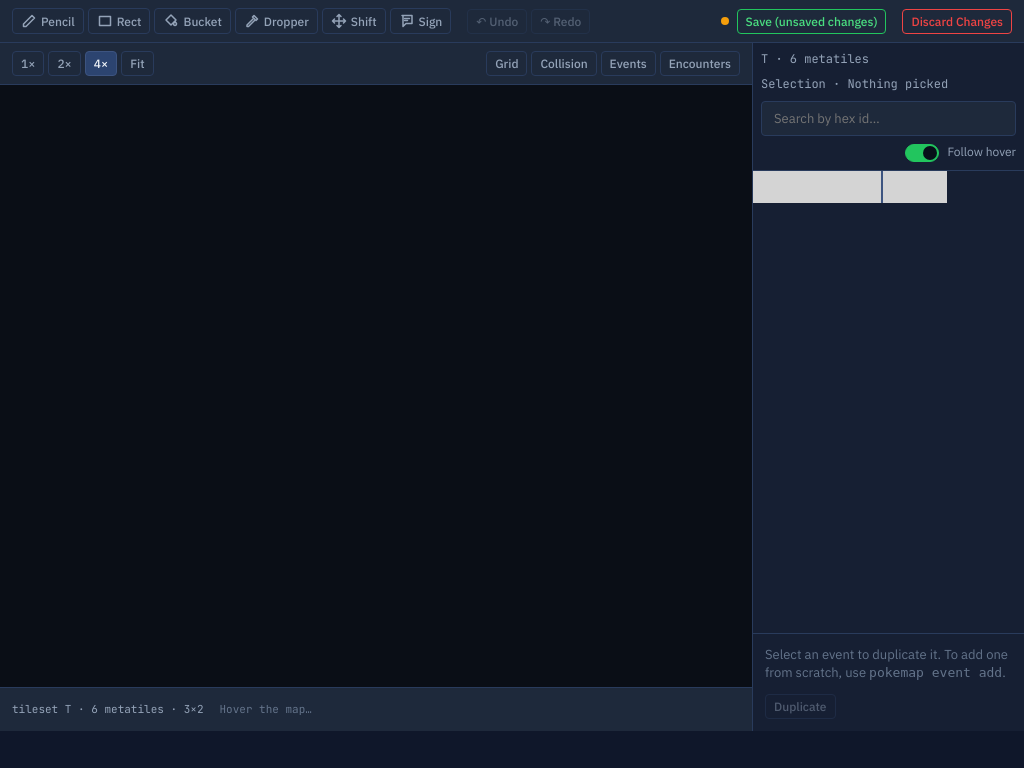
Test: GbcMapEditing wiring (spec review F2/F5/F6, QR I1) › a failed discard surfaces its message
Click the button "Discard Changes" at (957, 21), box x1=902 y1=8 x2=1012 y2=34
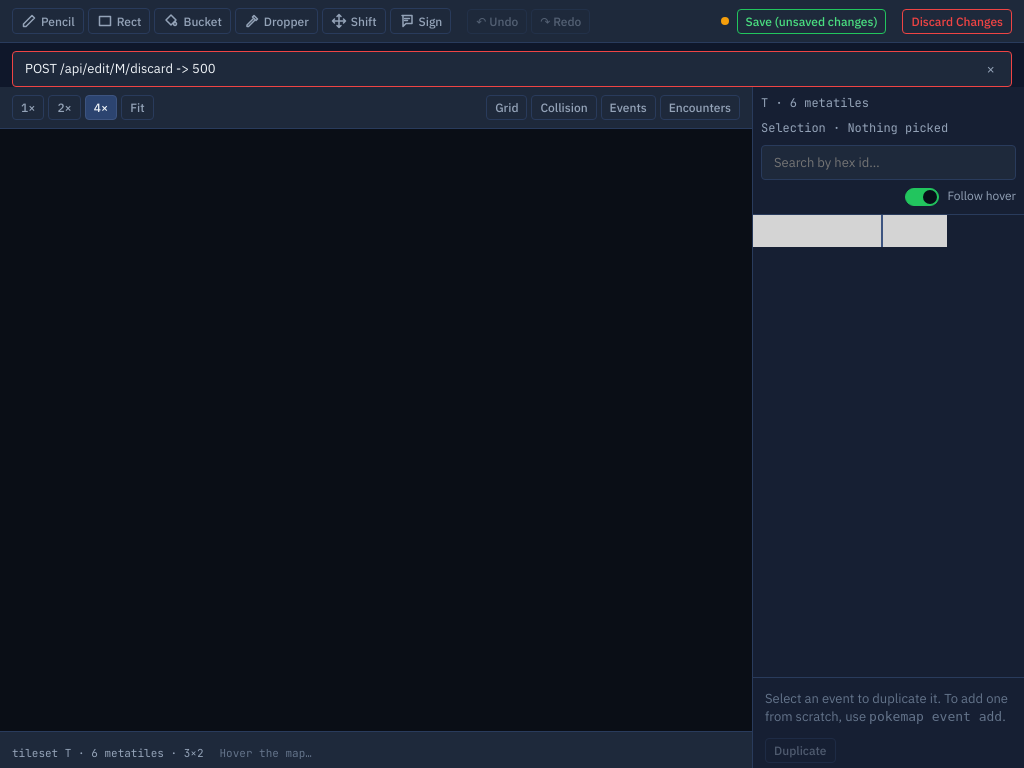
Expected: the message shows "discard -> 500", x1=25 y1=60 x2=216 y2=77
